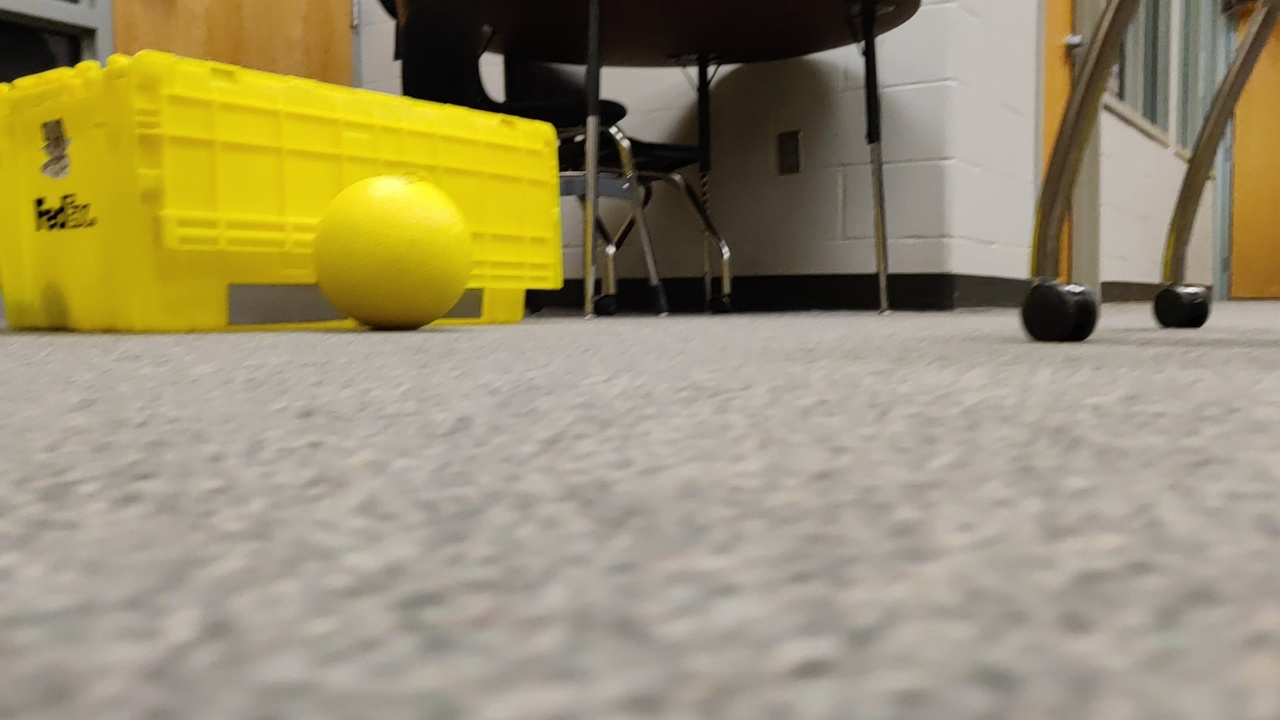Ball: (315, 178, 470, 329)
